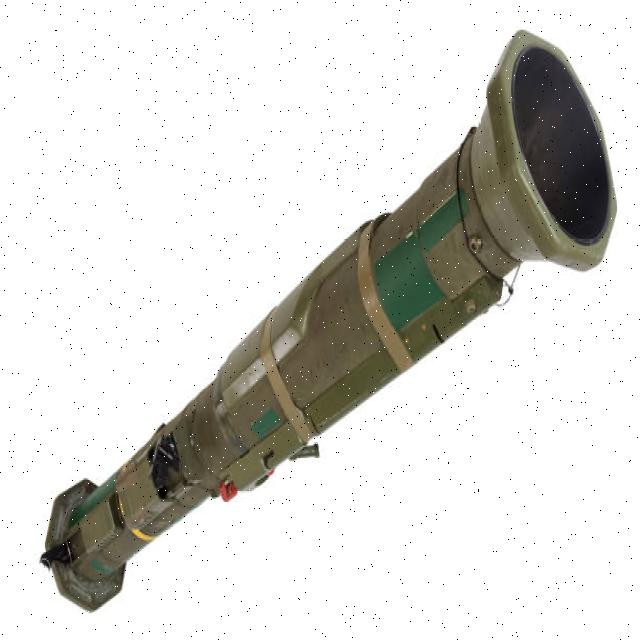bazooka: (32, 25, 625, 623)
